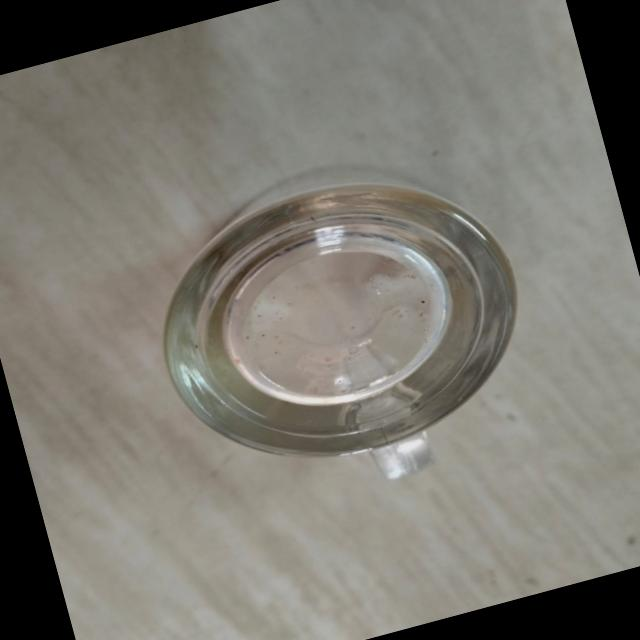glass-VX4N: (127, 140, 558, 530)
